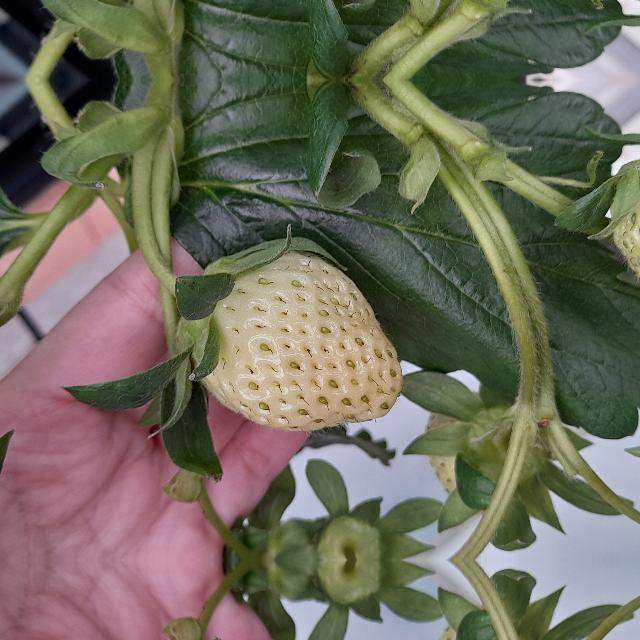Health_50: (199, 250, 401, 432)
